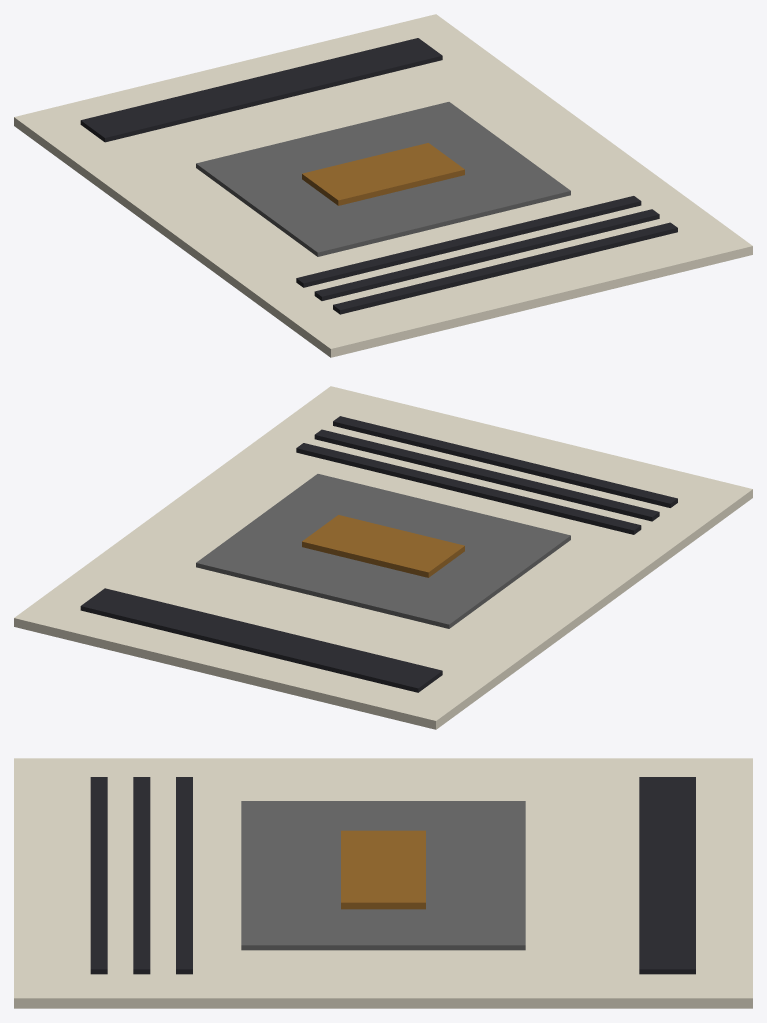
Rendered from fair_horse_photo.glb.
3 renders of one model, top to bottom at view 1: azimuth 30°, elevation 25°; view 2: azimuth 150°, elevation 25°; view 3: azimuth 270°, elevation 25°, orthographic. The views are drawn at different scales.
Parts seen in each view (by area): view 1: paper_news_paper, photo_news_photo, lines_list_ink (×3), headline_list_ink, horse_bronze; view 2: paper_news_paper, photo_news_photo, lines_list_ink (×3), headline_list_ink, horse_bronze; view 3: paper_news_paper, photo_news_photo, headline_list_ink, lines_list_ink (×3), horse_bronze.
Boxes of the visible parts, x1,y1,x2,y2 form: paper_news_paper: (14,14,752,357); photo_news_photo: (196,102,570,256); lines_list_ink (×3): (296,196,677,314); headline_list_ink: (80,38,442,142); horse_bronze: (302,143,464,205); paper_news_paper: (14,386,752,729); photo_news_photo: (196,474,570,628); lines_list_ink (×3): (296,416,677,534); headline_list_ink: (80,588,442,692); horse_bronze: (302,515,464,577); paper_news_paper: (14,758,752,1008); photo_news_photo: (241,801,525,950); headline_list_ink: (639,777,695,974); lines_list_ink (×3): (90,777,192,974); horse_bronze: (341,830,425,909).
Bounding box in the file's own units: 0.2 × 0.0085 × 0.26.
